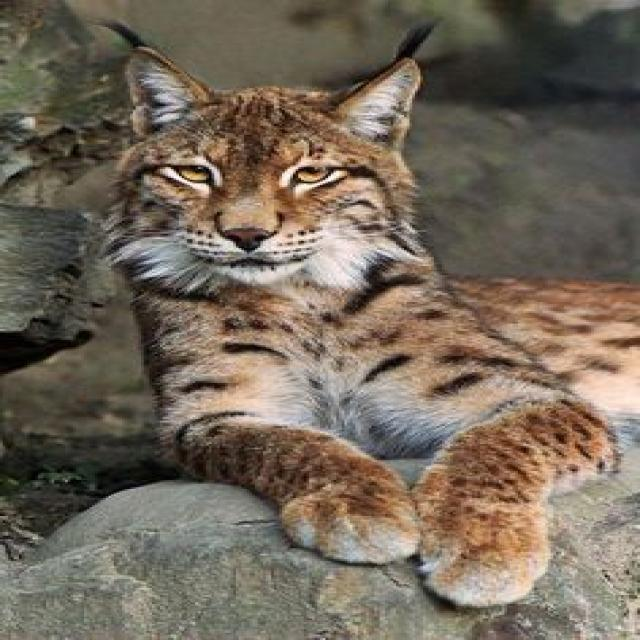Carnivorous: (100, 22, 640, 611)
